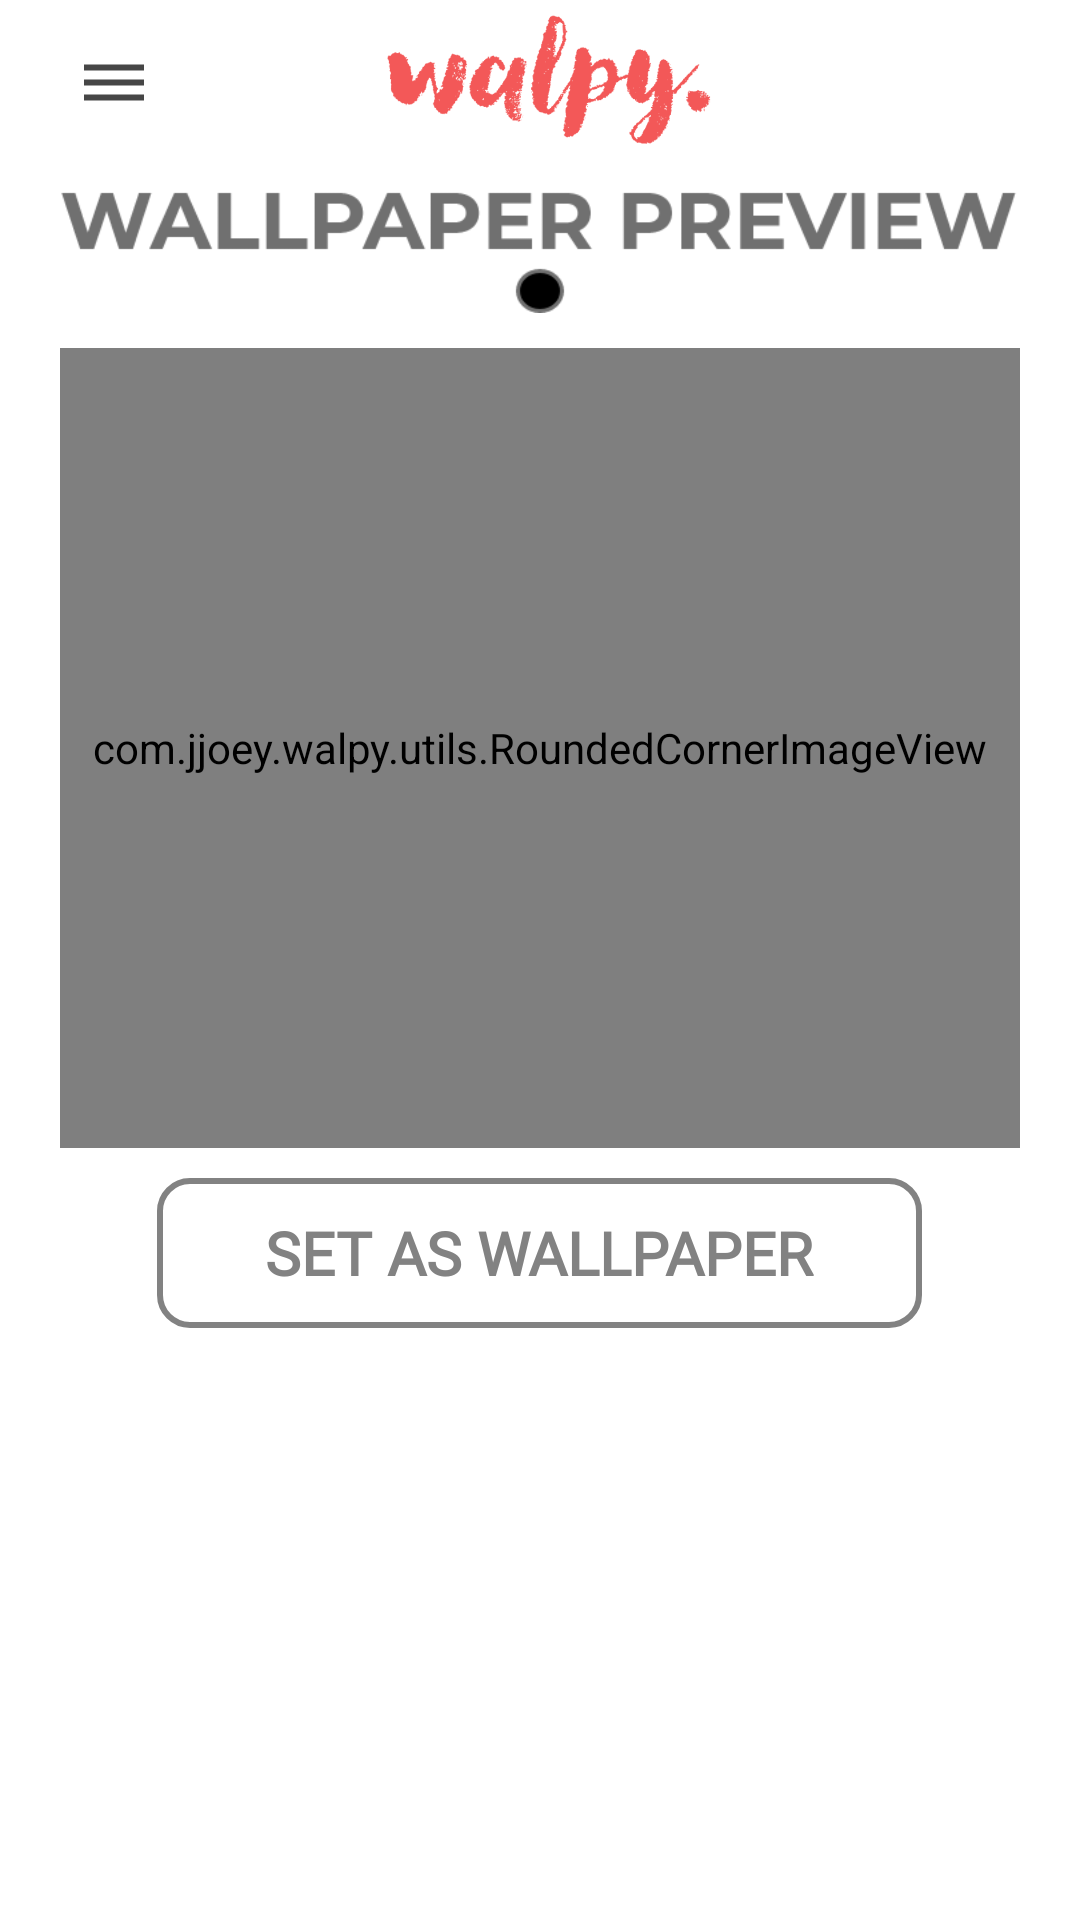

Point at icon controls on the screen. Image size 1080*1920, points as (x=x, y=y).
nav: (x=114, y=82)
